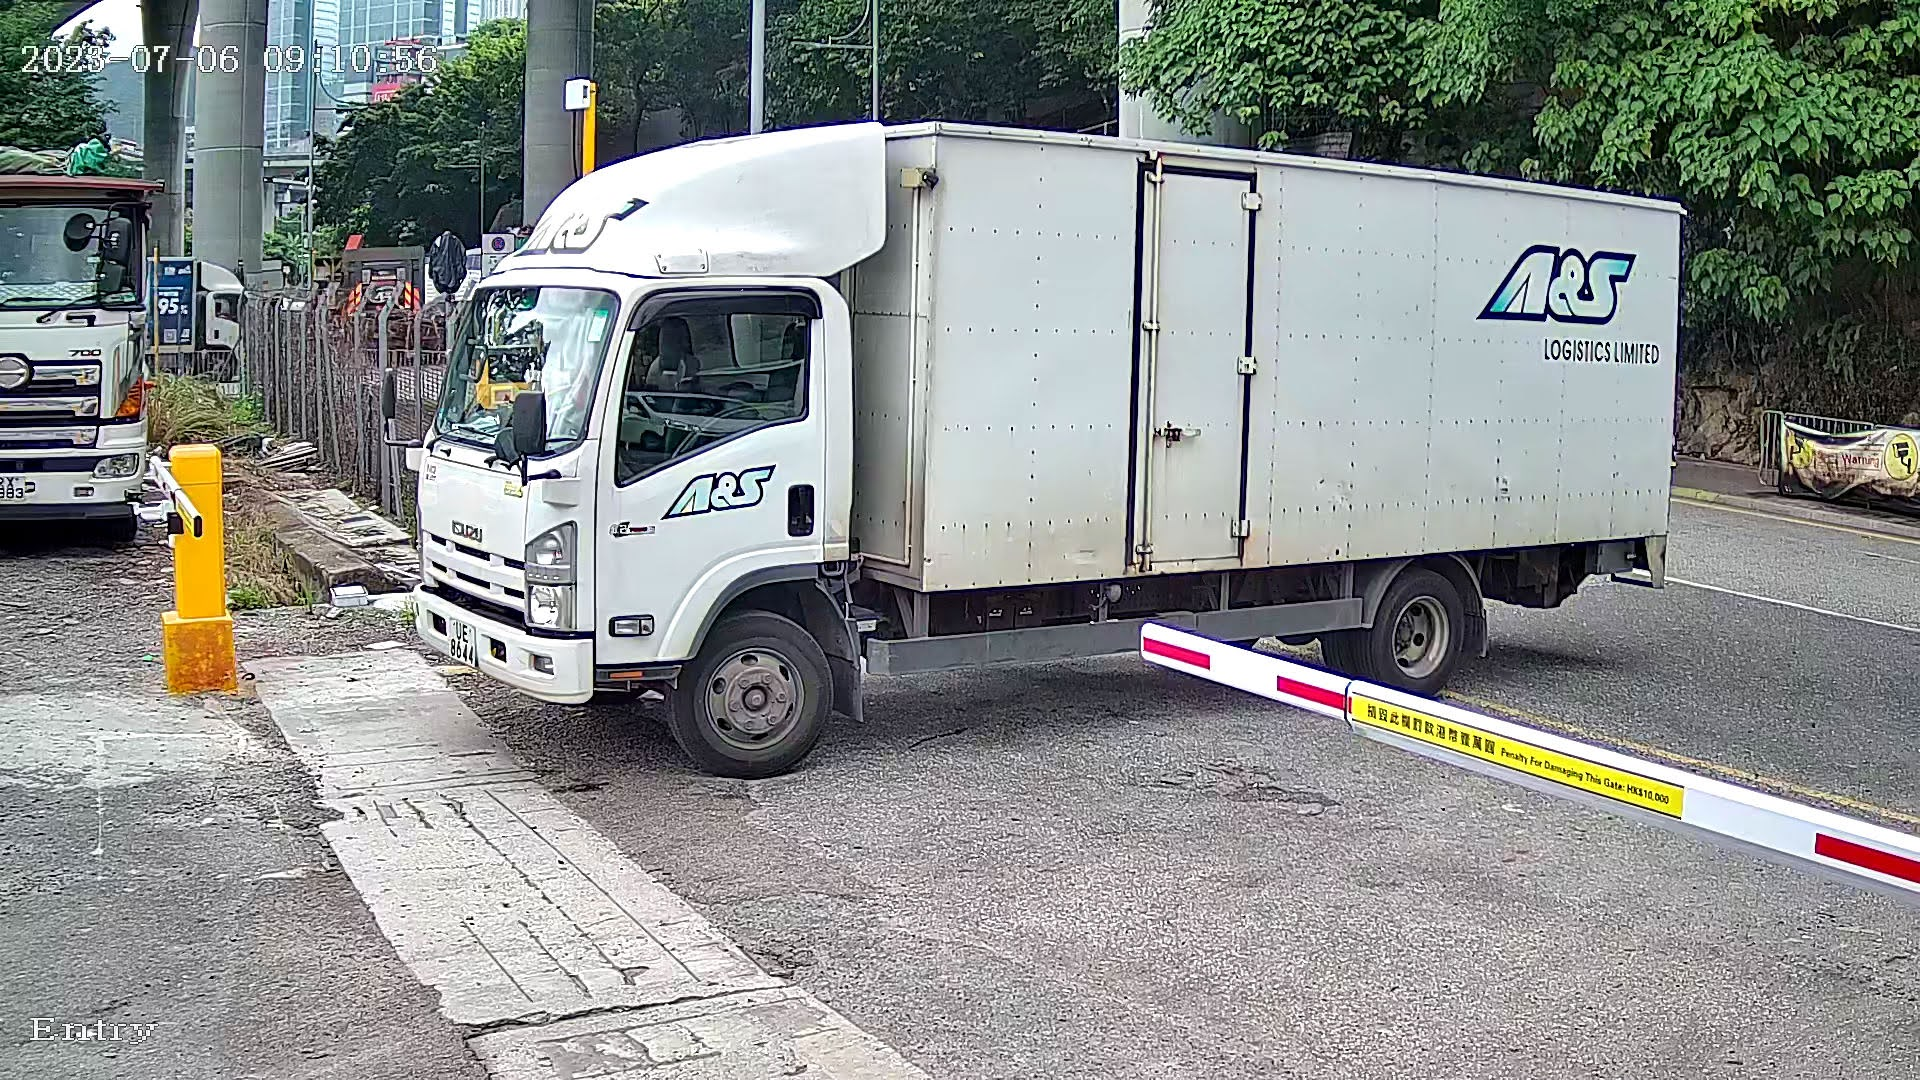truck: (377, 65, 1735, 791)
